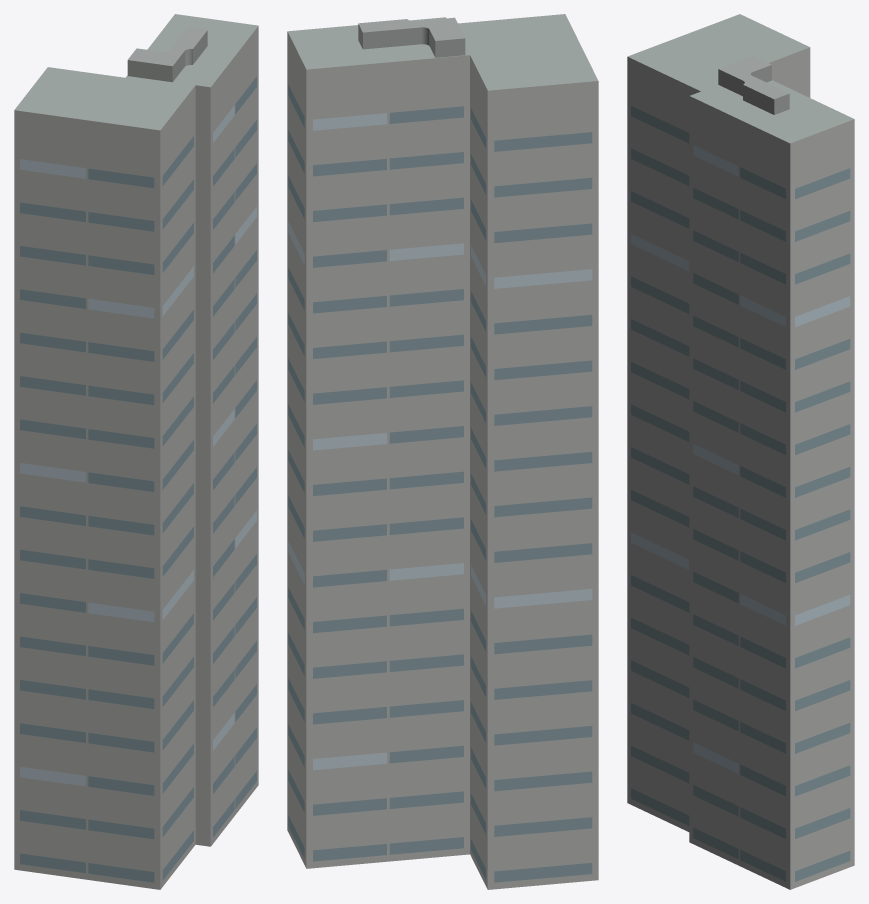
File: fallback-godeok-gracium-104.glb
3 views of the same model, side by side, from view 1: azimuth 30°, elevation 25°; view 2: azimuth 150°, elevation 25°; view 3: azimuth 270°, elevation 25° (orthographic). The views are drawn at different scales.
Visible parts, largest first — view 1: fallback-godeok-gracium-104; view 2: fallback-godeok-gracium-104; view 3: fallback-godeok-gracium-104.
Part boxes in pixels (<box>): fallback-godeok-gracium-104: <box>14,14,258,889</box>; fallback-godeok-gracium-104: <box>287,14,598,889</box>; fallback-godeok-gracium-104: <box>627,14,854,889</box>.
Bounding box in the file's own units: 42.26 × 116 × 31.36.
